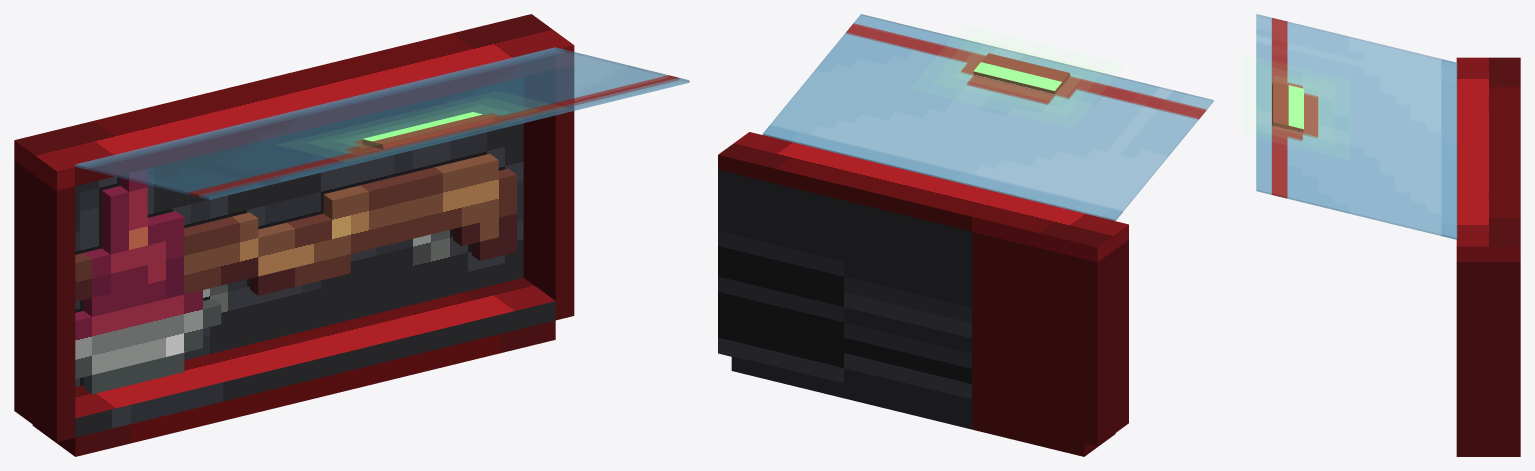
File: fire_axe_cabinet_open.glb
3 renders of one model, left to right at view 1: azimuth 30°, elevation 25°; view 2: azimuth 150°, elevation 25°; view 3: azimuth 270°, elevation 25°, orthographic. The views are drawn at different scales.
Visible parts, largest first — view 1: Continuous_Cabinet_Shell, Removable_axe, Closed_Thickness_Door_Glass, Lock_Overlay, Door_Handle; view 2: Continuous_Cabinet_Shell, Closed_Thickness_Door_Glass, Lock_Overlay, Door_Handle; view 3: Closed_Thickness_Door_Glass, Continuous_Cabinet_Shell, Lock_Overlay, Door_Handle.
Part boxes in pixels (box(x1,y1,x2,y2)): Continuous_Cabinet_Shell: box(14, 14, 574, 456); Removable_axe: box(75, 153, 516, 394); Closed_Thickness_Door_Glass: box(75, 47, 689, 199); Lock_Overlay: box(308, 98, 538, 154); Door_Handle: box(362, 114, 494, 149); Continuous_Cabinet_Shell: box(718, 132, 1128, 456); Closed_Thickness_Door_Glass: box(763, 14, 1213, 220); Lock_Overlay: box(932, 38, 1103, 115); Door_Handle: box(973, 53, 1070, 94); Closed_Thickness_Door_Glass: box(1256, 14, 1457, 239); Continuous_Cabinet_Shell: box(1456, 57, 1520, 456); Lock_Overlay: box(1258, 65, 1334, 149); Door_Handle: box(1272, 81, 1303, 132).
Size of the model in its own units: 0.7875 by 0.5347 by 0.4899.
5 materials, 5 textured.
